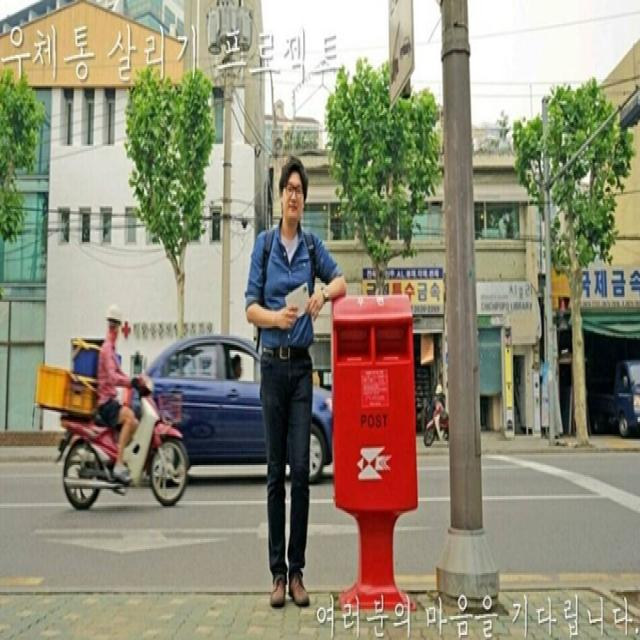Post Box: (329, 286, 416, 608)
